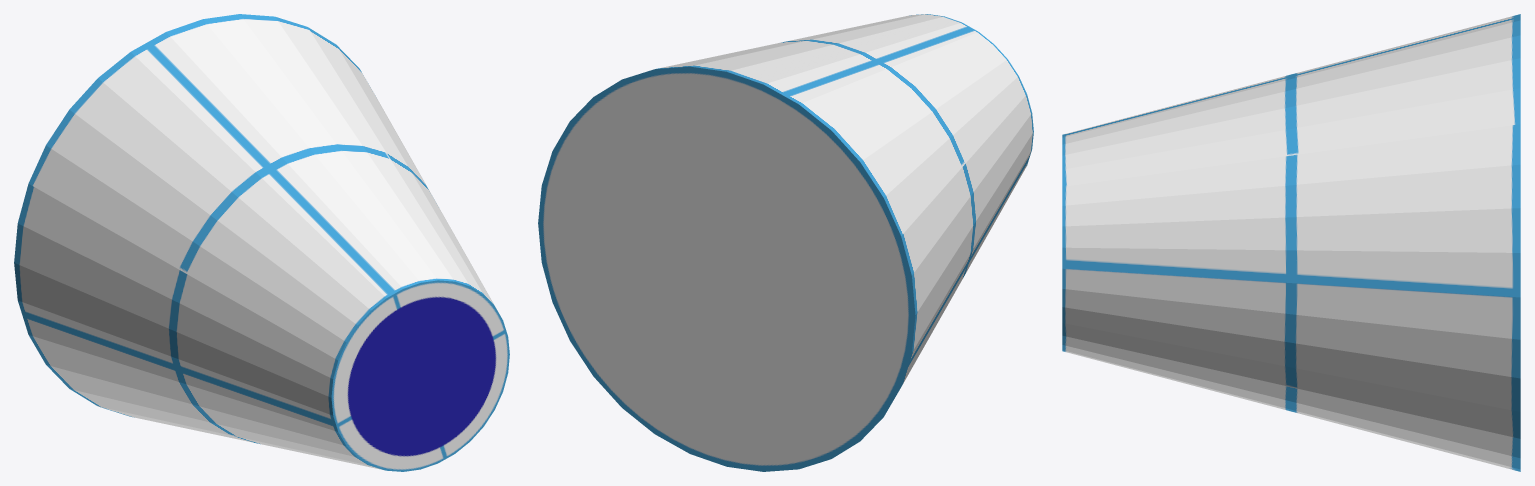
File: ConeEye.obj
3 renders of one model, left to right at view 1: azimuth 30°, elevation 25°; view 2: azimuth 150°, elevation 25°; view 3: azimuth 270°, elevation 25°, orthographic. The views are drawn at different scales.
Visible parts, largest first — view 1: Cylinder; view 2: Cylinder; view 3: Cylinder.
Part boxes in pixels (x1=…): Cylinder: x1=14, y1=14, x2=509, y2=471; Cylinder: x1=538, y1=14, x2=1033, y2=471; Cylinder: x1=1062, y1=14, x2=1520, y2=471.
Bounding box in the file's own units: 1 × 1 × 1.
